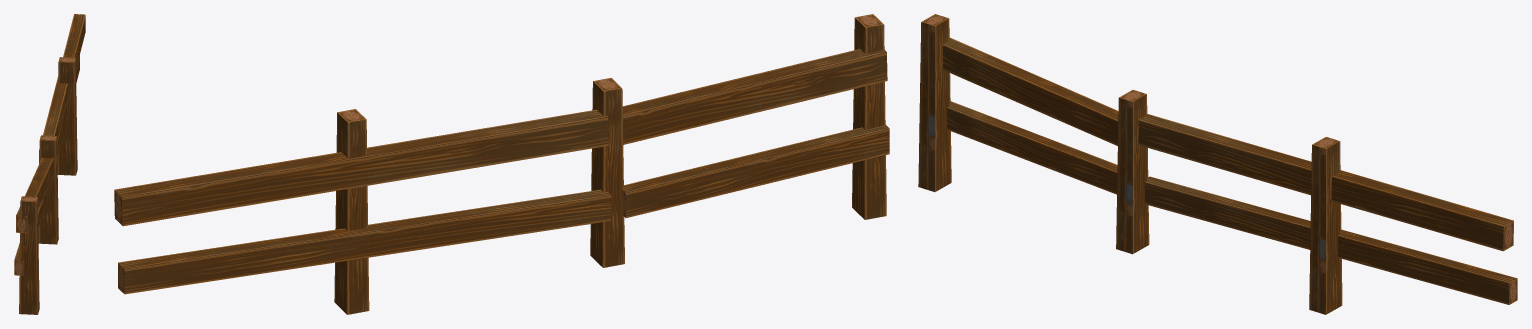
The picture shows the model from 3 angles, left to right: view 1: azimuth 30°, elevation 25°; view 2: azimuth 150°, elevation 25°; view 3: azimuth 270°, elevation 25°; orthographic projection. The views are drawn at different scales.
Parts seen in each view (by area): view 1: Cube.023; view 2: Cube.023; view 3: Cube.023.
Part boxes in pixels (<box>): Cube.023: <box>14,14,85,314</box>; Cube.023: <box>114,14,889,314</box>; Cube.023: <box>918,14,1517,314</box>.
Size of the model in its own units: 324 by 132 by 434.
Materials: 1 (1 with a texture image).
